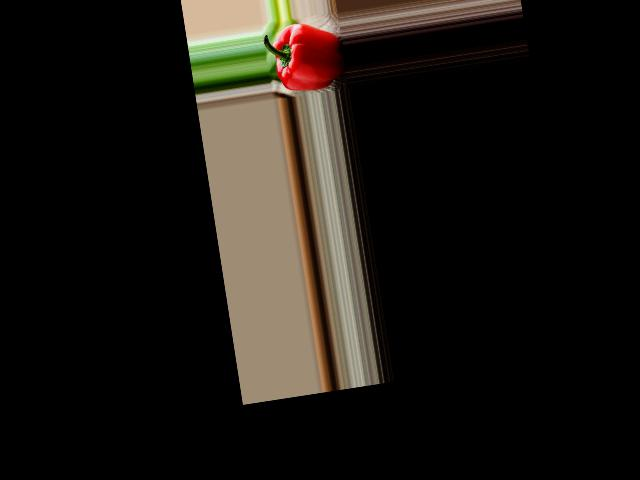bell_pepper: (263, 15, 349, 94)
